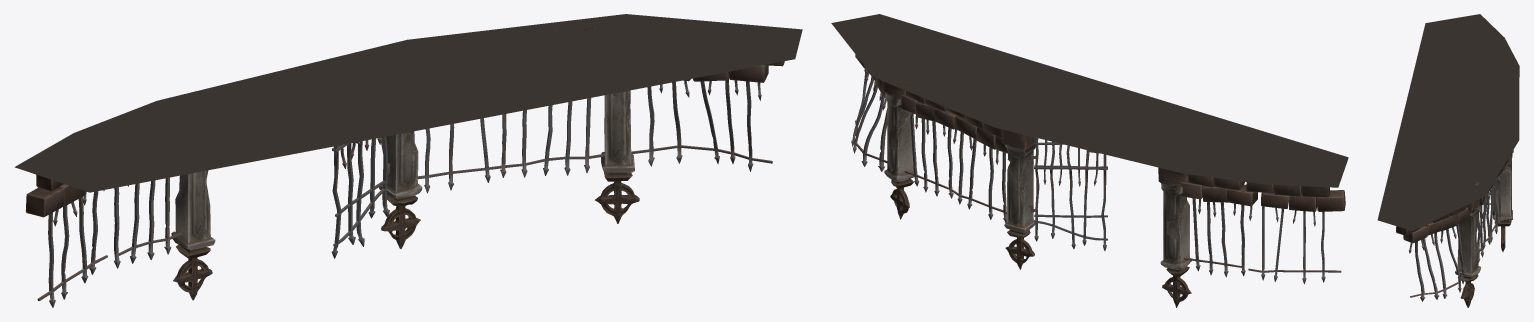
3 renders of one model, left to right at view 1: azimuth 30°, elevation 25°; view 2: azimuth 150°, elevation 25°; view 3: azimuth 270°, elevation 25°, orthographic. The views are drawn at different scales.
Parts seen in each view (by area): view 1: Plane, zabor_column.001, zabor_broken_L, zabor_column.002, zabor.2, zabor_column, zabor, zabor_gate_R, zabor_broken_R; view 2: Plane, zabor, zabor_broken_L, zabor_column, zabor_column.001, zabor_broken_R, zabor_column.002, zabor_gate_R, zabor.2; view 3: Plane, zabor.2, zabor_column.002, zabor, zabor_column.
Part boxes in pixels (x1,y1,x2,y2): Plane: (14, 14, 802, 192); zabor_column.001: (171, 170, 215, 300); zabor_broken_L: (25, 174, 107, 307); zabor_column.002: (595, 90, 639, 223); zabor.2: (631, 61, 784, 171); zabor_column: (379, 131, 422, 248); zabor: (418, 27, 604, 193); zabor_gate_R: (331, 136, 390, 258); zabor_broken_R: (103, 177, 181, 268); Plane: (831, 14, 1348, 187); zabor: (900, 80, 1007, 222); zabor_broken_L: (1246, 182, 1345, 284); zabor_column: (1002, 129, 1038, 269); zabor_column.001: (1158, 167, 1191, 307); zabor_broken_R: (1180, 174, 1257, 277); zabor_column.002: (882, 81, 914, 219); zabor_gate_R: (1028, 137, 1107, 250); zabor.2: (851, 54, 887, 171); Plane: (1377, 14, 1519, 230); zabor.2: (1396, 205, 1470, 301); zabor_column.002: (1455, 200, 1481, 307); zabor: (1475, 159, 1507, 262); zabor_column: (1493, 150, 1513, 251).
Size of the model in its own units: 1221 by 310 by 338.
2 materials, 1 textured.
